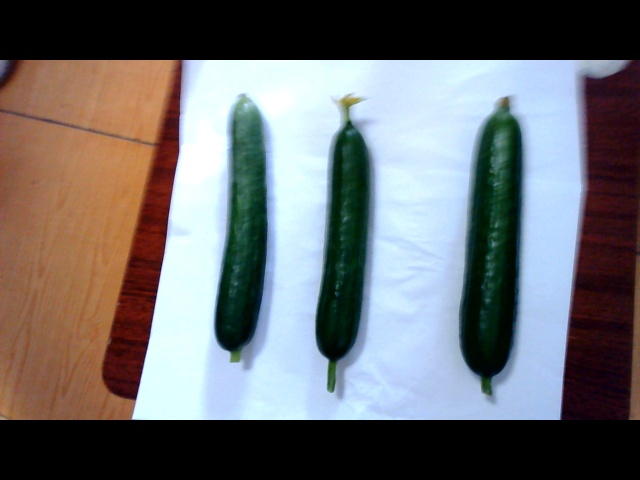cucumber: (445, 103, 528, 402), (209, 100, 277, 368), (312, 92, 369, 391)
